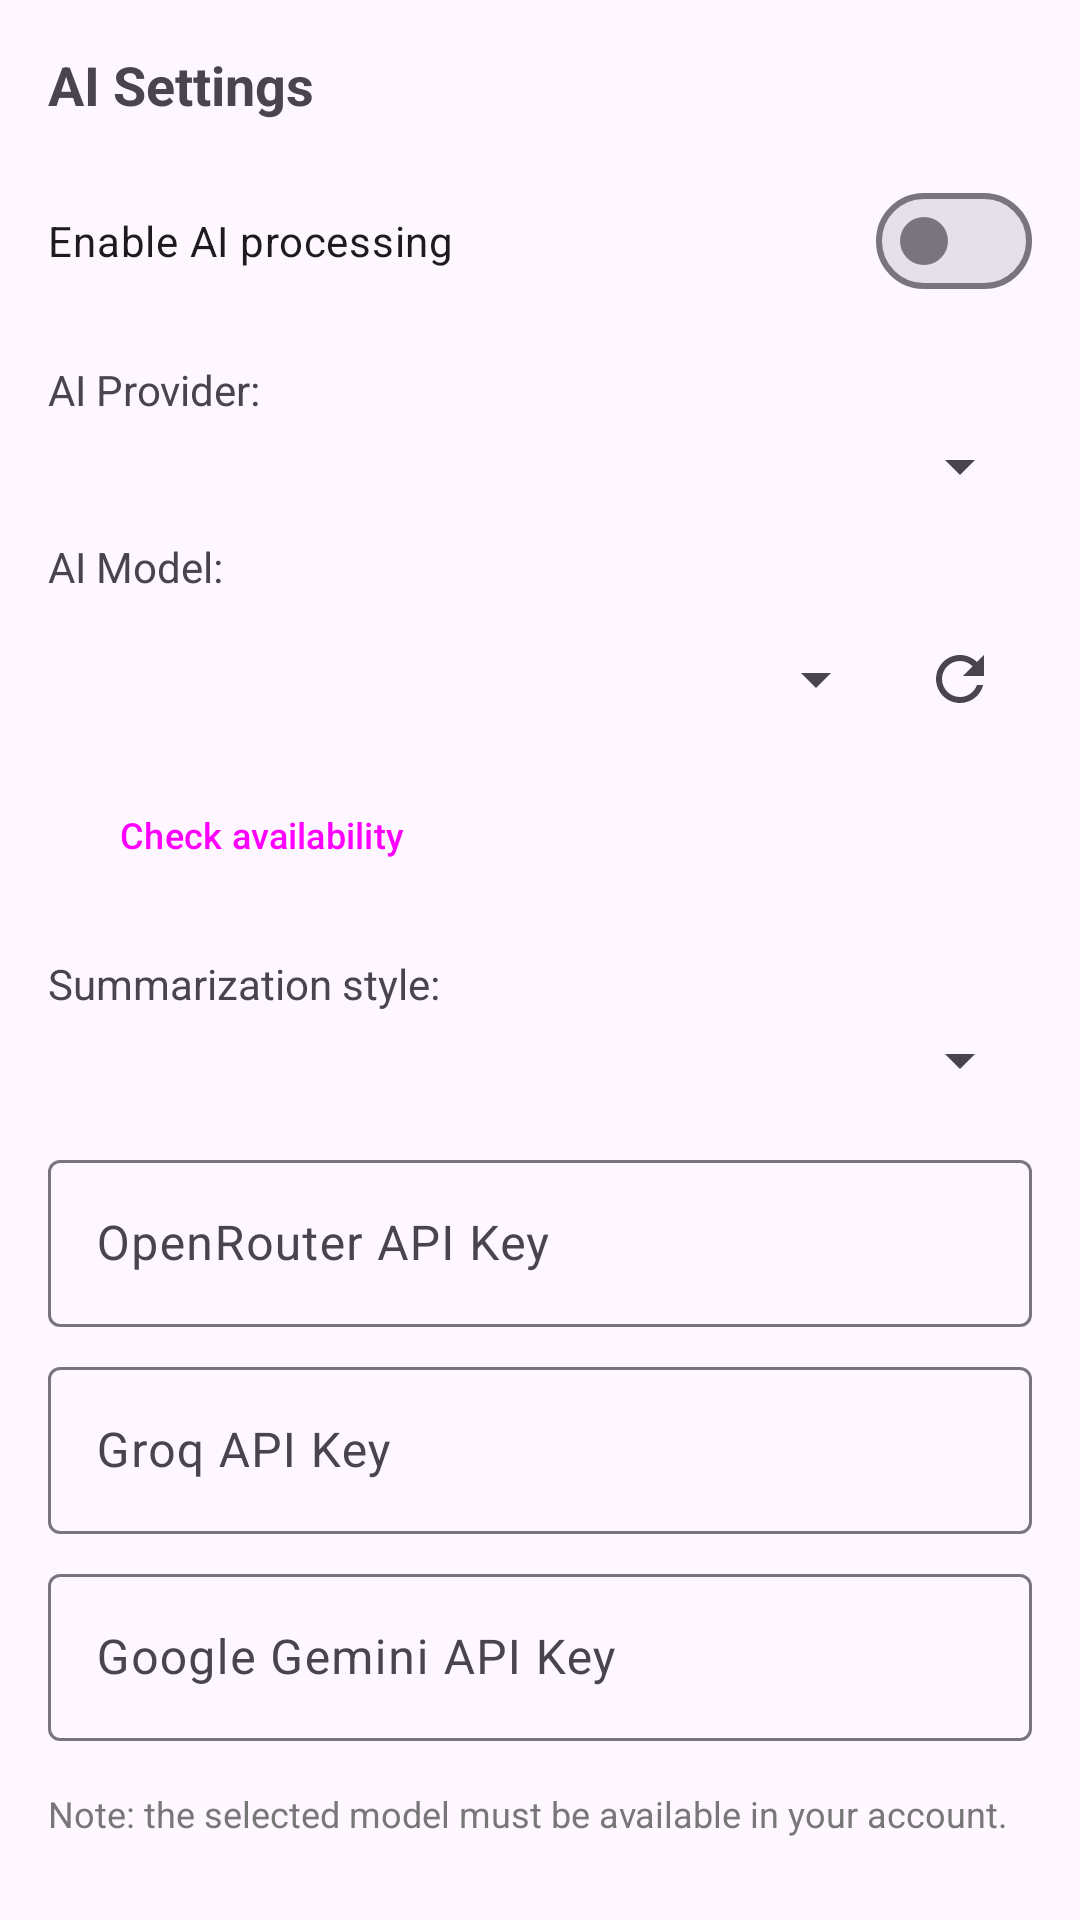

Where icons sit on this 1080x1920 app screen, as (left=x1, top=y1, right=x2, bottom=y2):
Refresh model list: (left=936, top=655, right=984, bottom=703)
